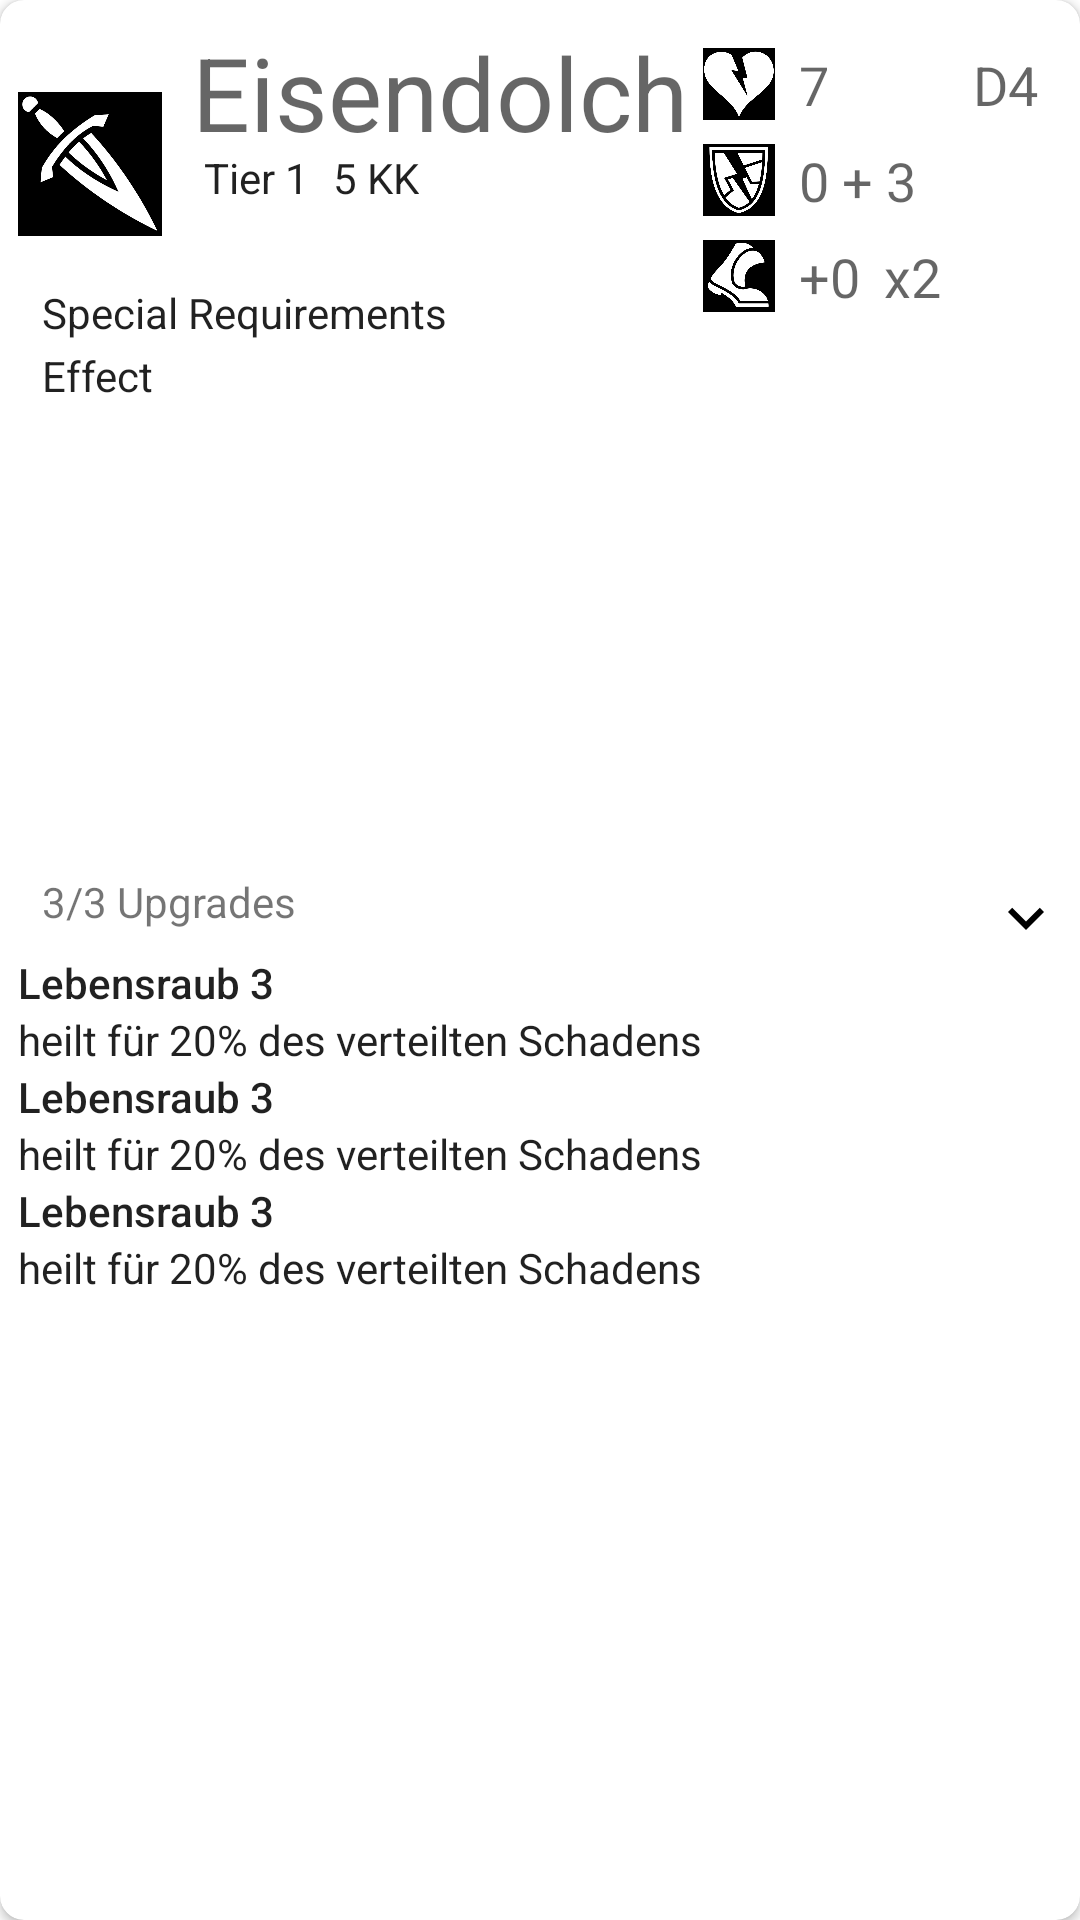

Icons on this 1080*1920 Android screen, each with the point to tap as (x=x, y=y):
broken heart: (x=739, y=84)
broken shield: (x=739, y=180)
expand more: (x=1026, y=919)
plain dagger: (x=90, y=164)
walking boot: (x=739, y=276)
